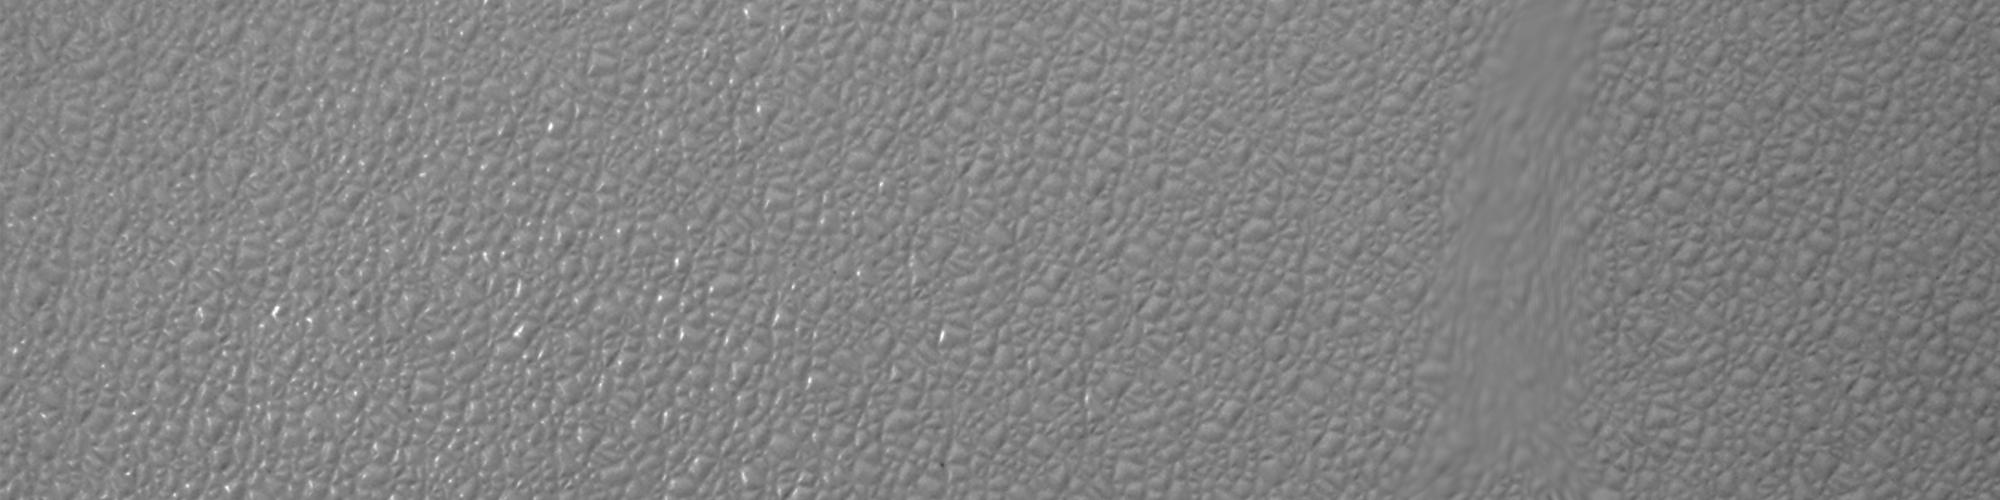Flow_Lines: (1416, 10, 1681, 495)
